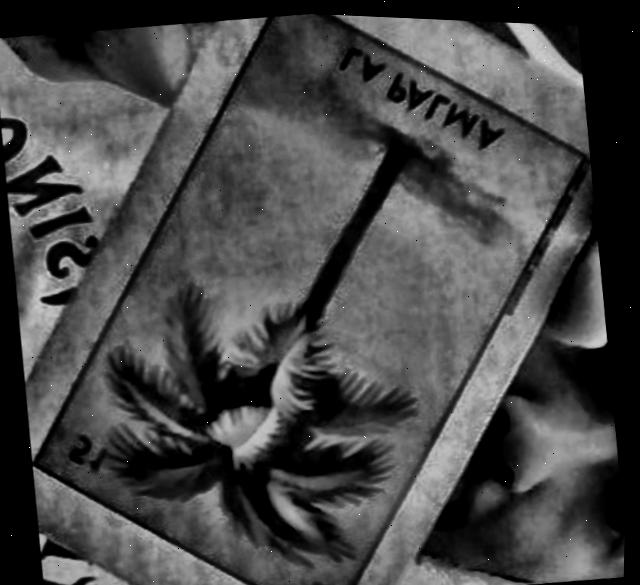La Palma: (37, 11, 579, 585)
